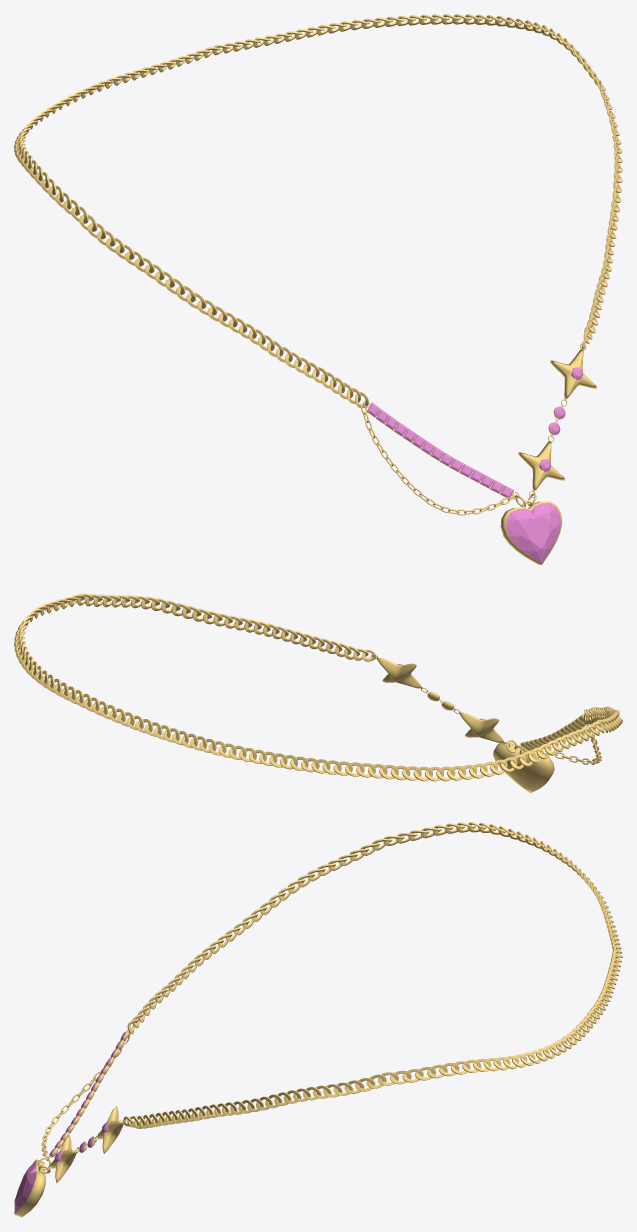
3 renders of one model, top to bottom at view 1: azimuth 30°, elevation 25°; view 2: azimuth 150°, elevation 25°; view 3: azimuth 270°, elevation 25°, orthographic. The views are drawn at different scales.
Visible parts, largest first — view 1: necklace; view 2: necklace; view 3: necklace.
Part boxes in pixels (left/top/right/bottom): necklace: left=14, top=14, right=622, bottom=564; necklace: left=14, top=593, right=622, bottom=793; necklace: left=14, top=822, right=622, bottom=1217.
Size of the model in its own units: 0.1254 by 0.0656 by 0.1316.
